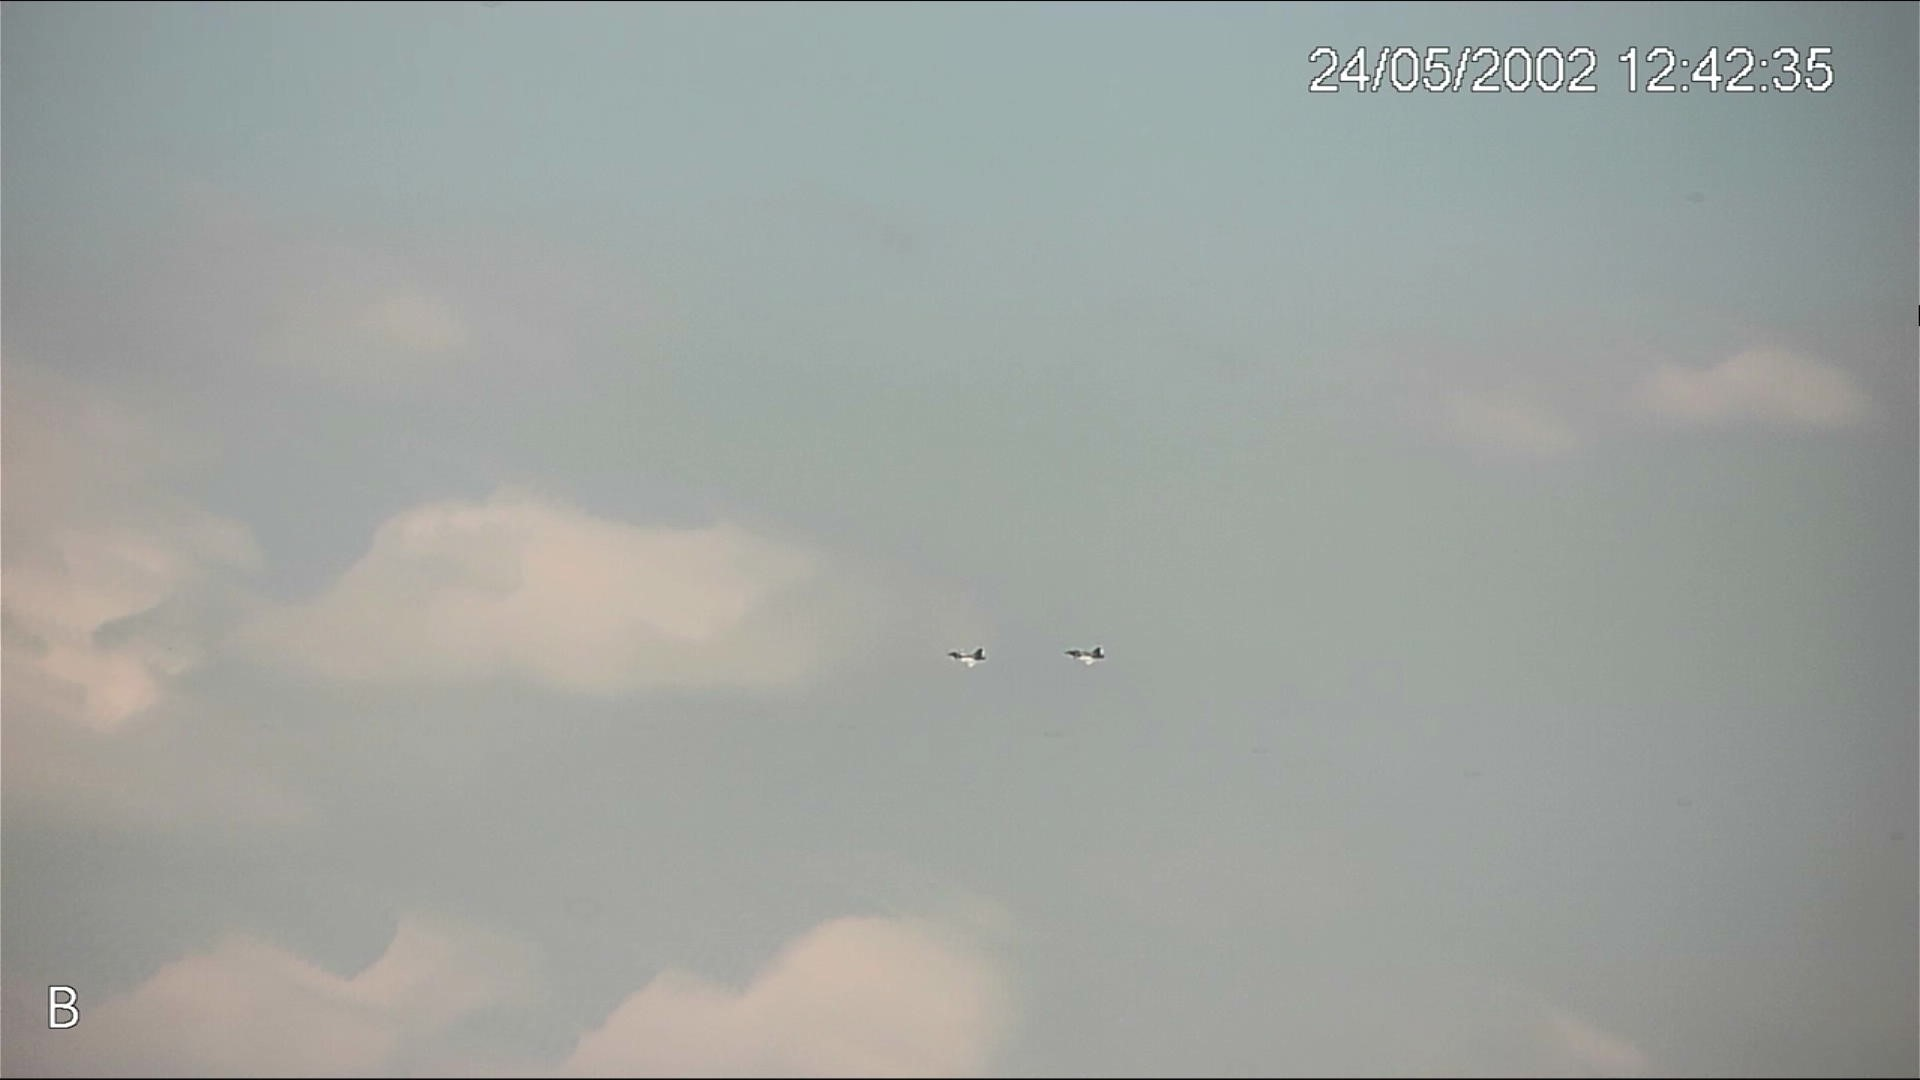SU_30: (1063, 644, 1106, 669), (945, 647, 989, 666)
